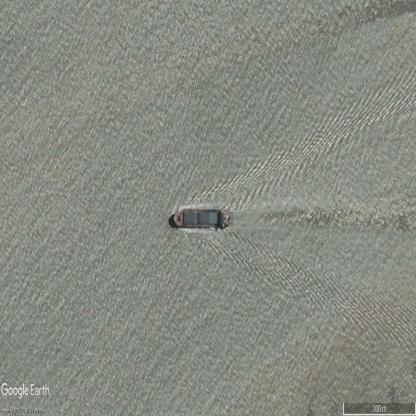ship: (167, 208, 229, 229)
